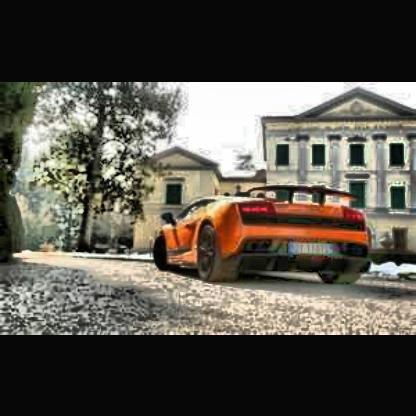Lamborghini Gallardo LP 570-4 Superleggera 2012: (153, 186, 377, 291)
